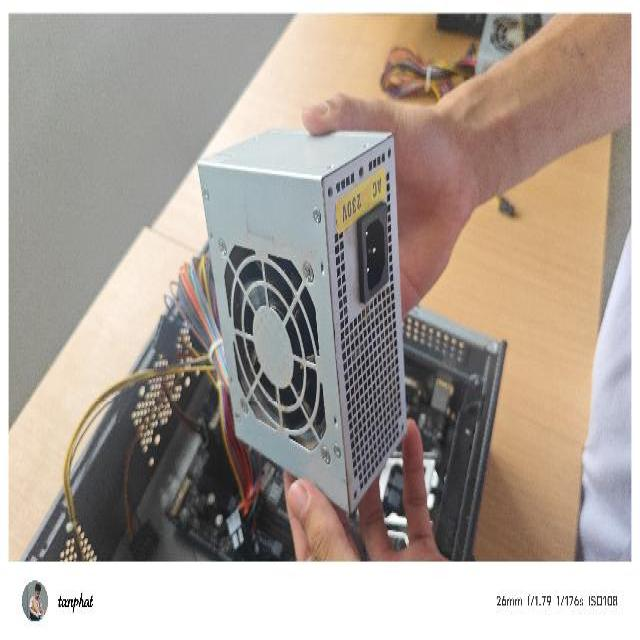PSU: (196, 120, 409, 518)
